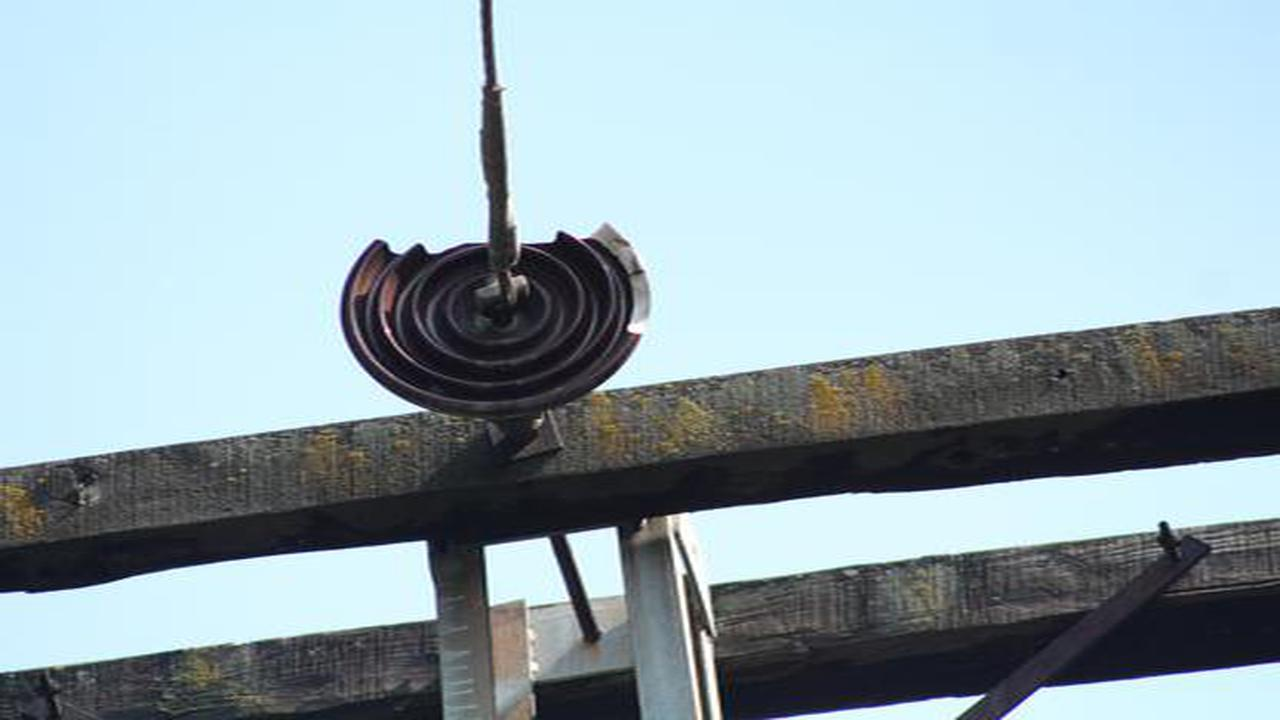defect_disc: (333, 219, 660, 422)
